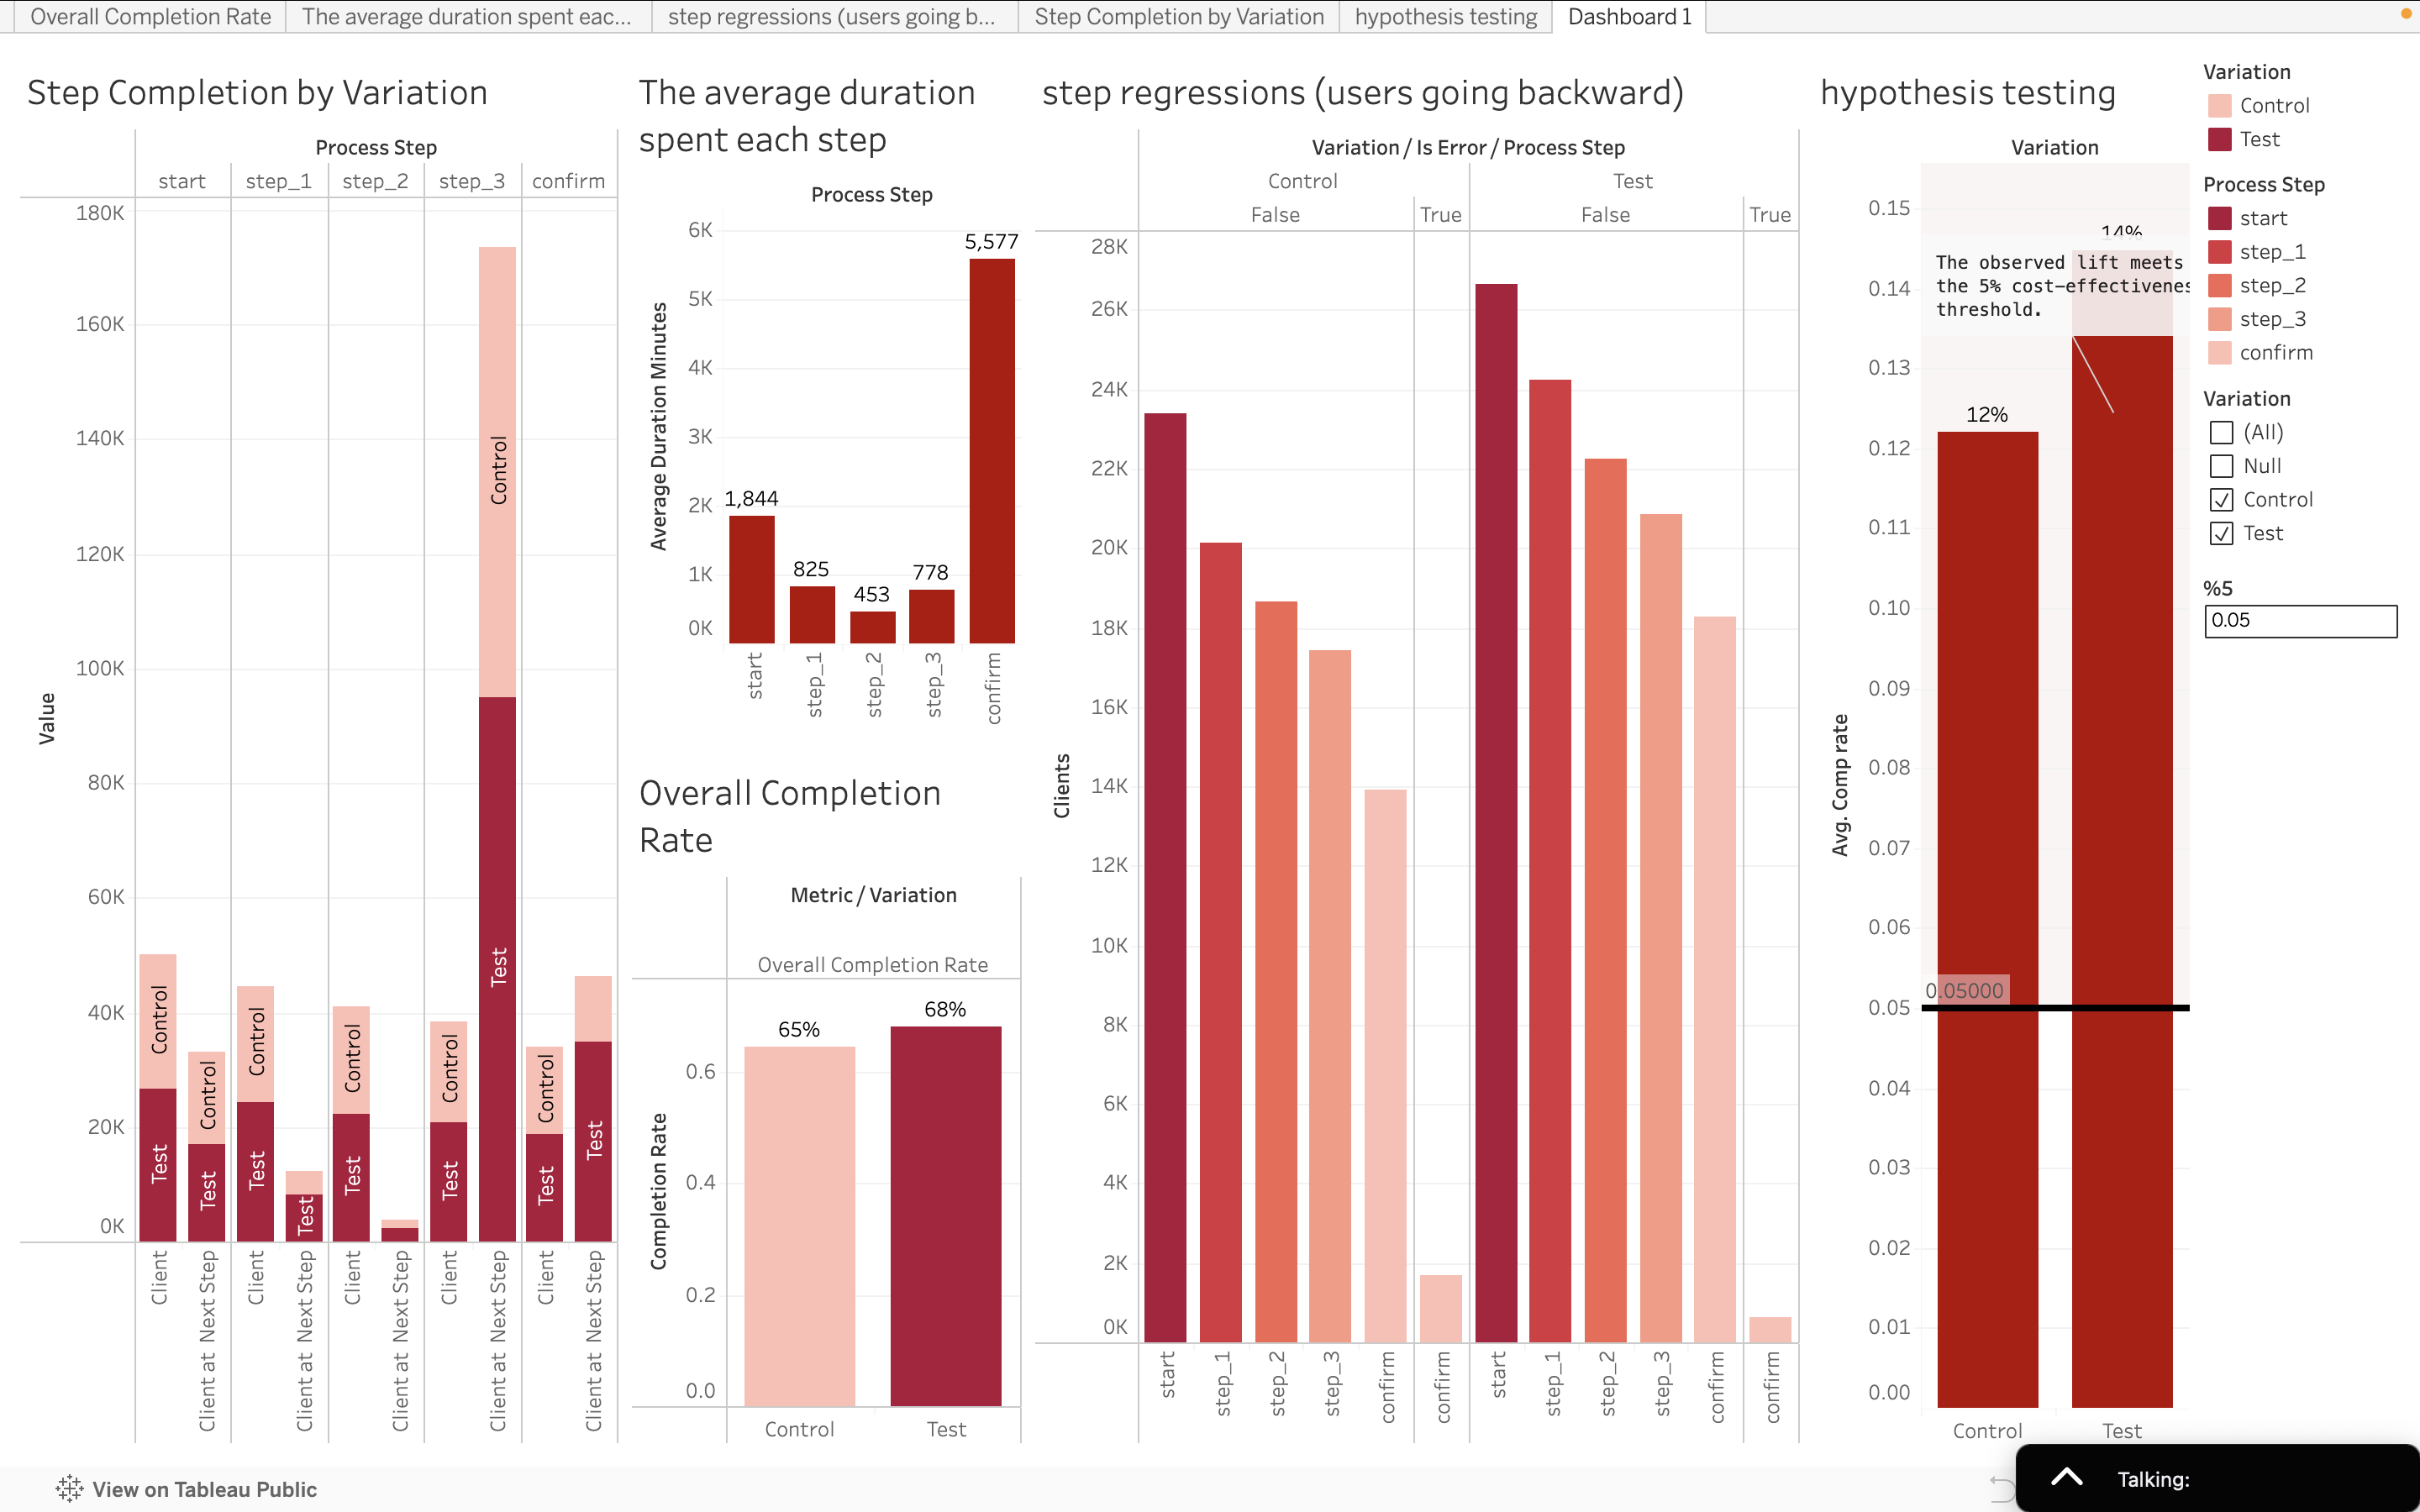

What the dashboard file says about the page in this screenshot:
{"tool":"tableau","page":{"name":"Dashboard 1","canvas":[1000,1000],"units":"permille","ordinal":0},"visuals":[{"type":"worksheet","title":"Step Completion by Variation","mark":"Automatic","cols":["process_step"],"box":[6.5,11.2,259.4,977.6]},{"type":"worksheet","title":"The average duration spent each step","mark":"Automatic","rows":["average_duration_minutes"],"cols":["process_step"],"box":[265.9,11.2,170.8,488.8]},{"type":"worksheet","title":"step regressions (users going backward)","mark":"Automatic","rows":["client_id"],"cols":["Variation","is_error","process_step"],"box":[436.7,11.2,231.3,977.6]},{"type":"worksheet","title":"hypothesis testing","mark":"Bar","rows":["Calculation_1934718260133101575"],"cols":["Variation"],"box":[668,11.2,195.6,977.6]},{"type":"legend","title":"Step Completion by Variation","param":"[federated.1rnik2408bcyim193zo910y8x23t].[none:Variation:nk]","box":[863.6,11.2,129.9,92.3]},{"type":"legend","title":"step regressions (users going backward)","param":"[federated.1rnik2408bcyim193zo910y8x23t].[none:process_step:nk]","box":[863.6,103.5,129.9,176.2]},{"type":"filter","title":"hypothesis testing","param":"[federated.1rnik2408bcyim193zo910y8x23t].[none:Variation:nk]","box":[863.6,279.7,129.9,151.1]},{"type":"parameter","param":"[Parameters].[Parameter 1]","box":[863.6,430.8,129.9,72.7]},{"type":"worksheet","title":"Overall Completion Rate","mark":"Automatic","rows":["Calculation_1934718260126863361"],"cols":["Calculation_1934718260127477763","Variation"],"box":[265.9,500,170.8,488.8]}]}

Visuals, with their boxes on the dashboard's canvas, which has no fixed pixel size, in thousandths of its width and height (x1, y1, x2, y2). These are canvas units, not pixel positions in the 2420x1512 screenshot, which may show the page scaled, cropped or inside an application window:
"Step Completion by Variation" worksheet: region(6, 11, 266, 989)
"The average duration spent each step" worksheet: region(266, 11, 437, 500)
"step regressions (users going backward)" worksheet: region(437, 11, 668, 989)
"hypothesis testing" worksheet (Bar marks): region(668, 11, 864, 989)
"Step Completion by Variation" legend: region(864, 11, 994, 104)
"step regressions (users going backward)" legend: region(864, 104, 994, 280)
"hypothesis testing" filter: region(864, 280, 994, 431)
parameter: region(864, 431, 994, 504)
"Overall Completion Rate" worksheet: region(266, 500, 437, 989)
